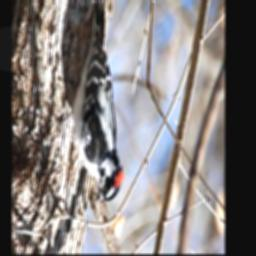Woodpecker: (70, 0, 125, 208)
